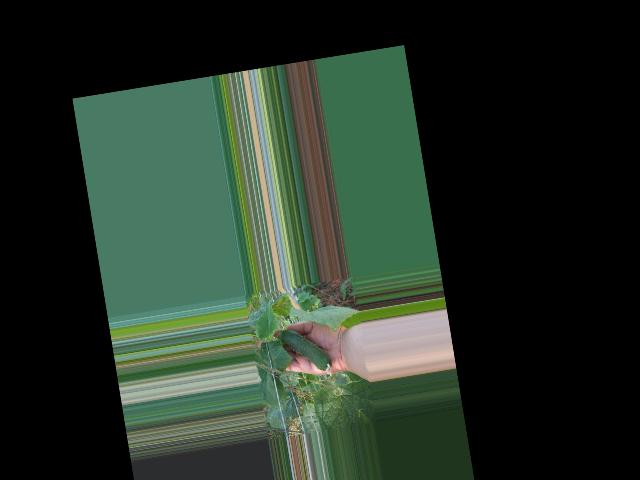cucumber: (279, 323, 334, 384)
